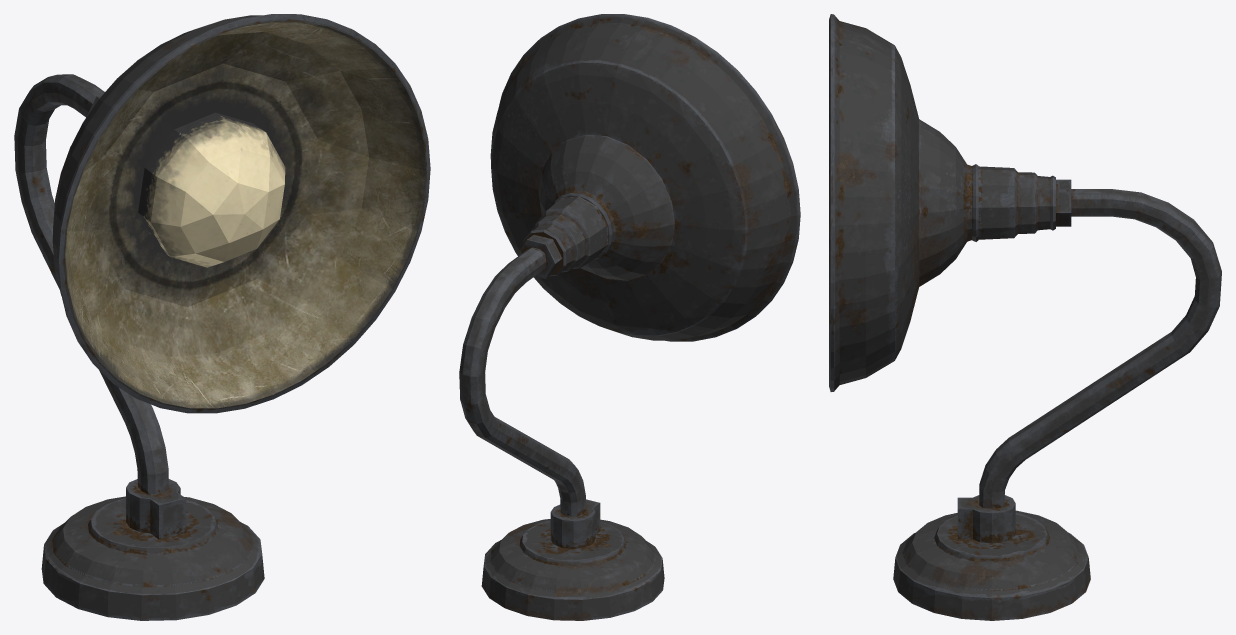
Rendered from M_c9_sn_ludeng.fbx.
3 renders of one model, left to right at view 1: azimuth 30°, elevation 25°; view 2: azimuth 150°, elevation 25°; view 3: azimuth 270°, elevation 25°, orthographic. The views are drawn at different scales.
Visible parts, largest first — view 1: M_c9_sn_ludeng.mo; view 2: M_c9_sn_ludeng.mo; view 3: M_c9_sn_ludeng.mo.
Part boxes in pixels (x1,y1,x2,y2): M_c9_sn_ludeng.mo: (14,14,430,620); M_c9_sn_ludeng.mo: (459,14,800,620); M_c9_sn_ludeng.mo: (829,14,1221,620).
Size of the model in its own units: 86.49 by 138 by 89.76.
